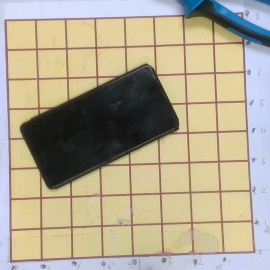phone: (19, 63, 181, 191)
